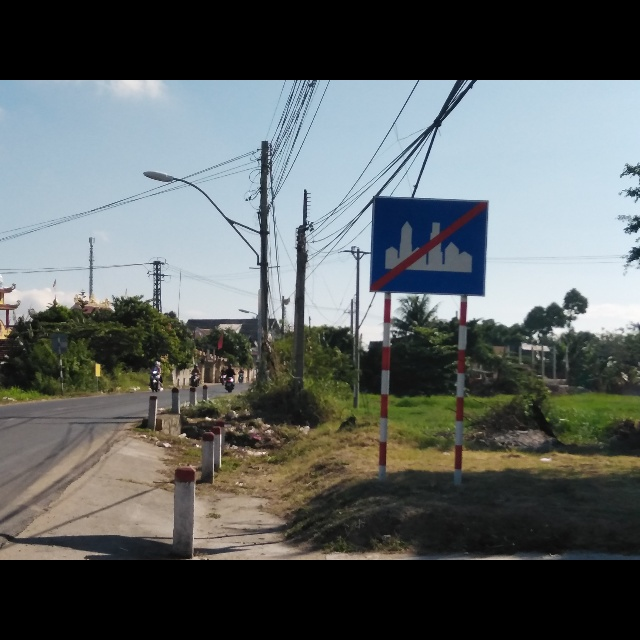Hết khu đông dân cư: (371, 194, 489, 296)
